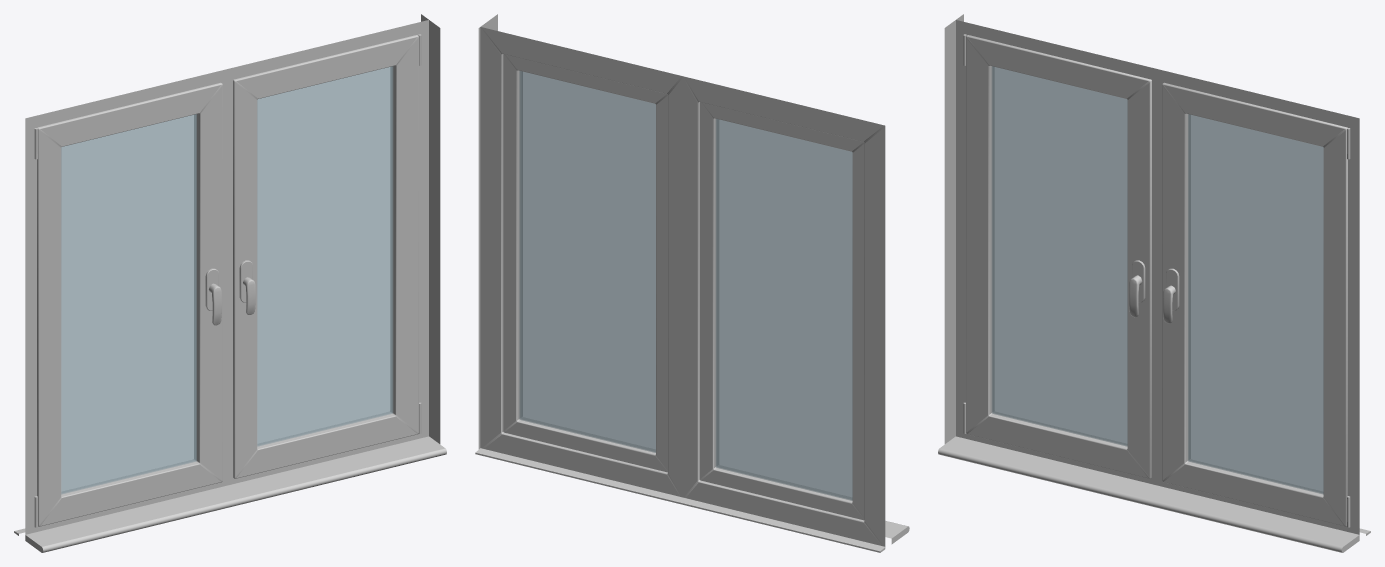
The picture shows the model from 3 angles, left to right: view 1: azimuth 30°, elevation 25°; view 2: azimuth 150°, elevation 25°; view 3: azimuth 330°, elevation 25°; orthographic projection.
Parts seen in each view (by area): view 1: Node; view 2: Node; view 3: Node.
Part boxes in pixels (bbox=[...]): Node: bbox=[14, 14, 446, 552]; Node: bbox=[475, 14, 909, 552]; Node: bbox=[938, 14, 1370, 552].
Bounding box in the file's own units: 1.4 × 1.4 × 0.175.
